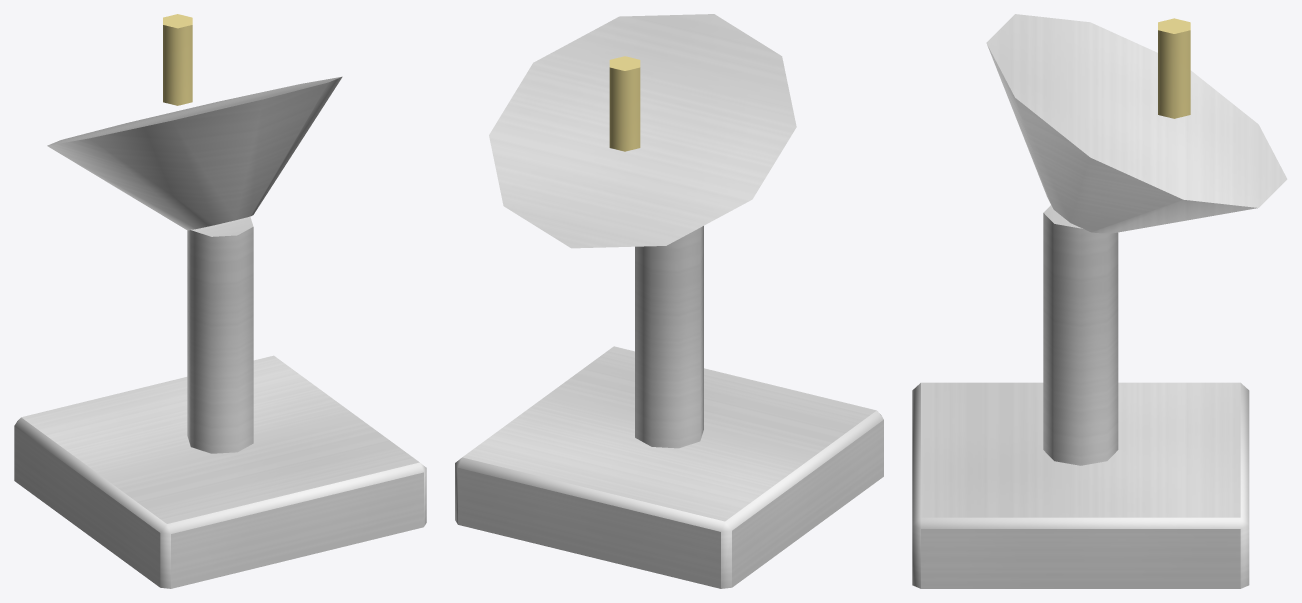
The model's file is ship_sensor.obj.
The picture shows the model from 3 angles, left to right: view 1: azimuth 30°, elevation 25°; view 2: azimuth 150°, elevation 25°; view 3: azimuth 270°, elevation 25°; orthographic projection. The views are drawn at different scales.
Visible parts, largest first — view 1: sensor_base, retained_14, retained_5, retained_35; view 2: sensor_base, retained_14, retained_5, retained_35; view 3: sensor_base, retained_14, retained_5, retained_35.
Boxes of the visible parts, box(x1,y1,x2,y2) form: sensor_base: box(14, 355, 426, 588); retained_14: box(47, 76, 342, 230); retained_5: box(187, 216, 253, 453); retained_35: box(163, 14, 192, 105); sensor_base: box(455, 346, 883, 588); retained_14: box(489, 14, 796, 248); retained_5: box(635, 226, 703, 448); retained_35: box(609, 56, 640, 151); sensor_base: box(912, 382, 1249, 588); retained_14: box(986, 14, 1287, 233); retained_5: box(1043, 205, 1118, 465); retained_35: box(1158, 18, 1190, 118).
Size of the model in its own units: 0.9 by 1.45 by 1.
